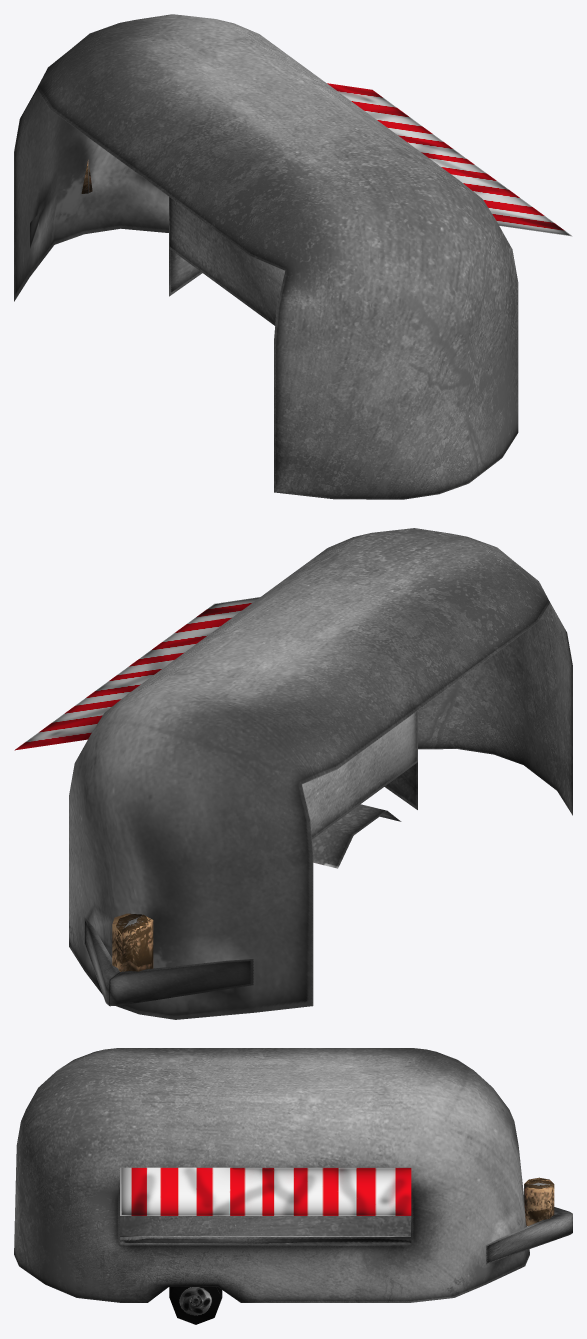
File: burgerVan.fbx
The picture shows the model from 3 angles, top to bottom: view 1: azimuth 30°, elevation 25°; view 2: azimuth 150°, elevation 25°; view 3: azimuth 270°, elevation 25°; orthographic projection. The views are drawn at different scales.
Visible parts, largest first — view 1: Sphere; view 2: Sphere; view 3: Sphere.
Part boxes in pixels (x1,y1,x2,y2): Sphere: (14,14,572,499); Sphere: (14,528,572,1019); Sphere: (14,1048,572,1324).
Bounding box in the file's own units: 6.85 × 5.75 × 13.87.
1 material, 1 textured.
